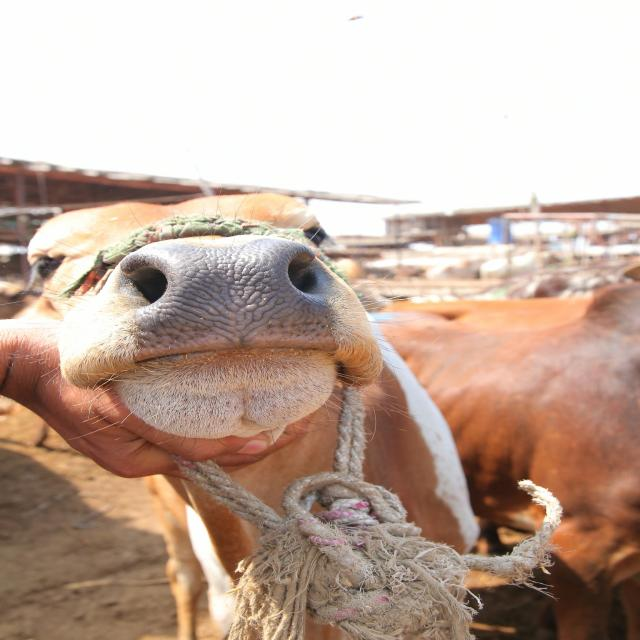muzzles: (106, 234, 354, 364)
